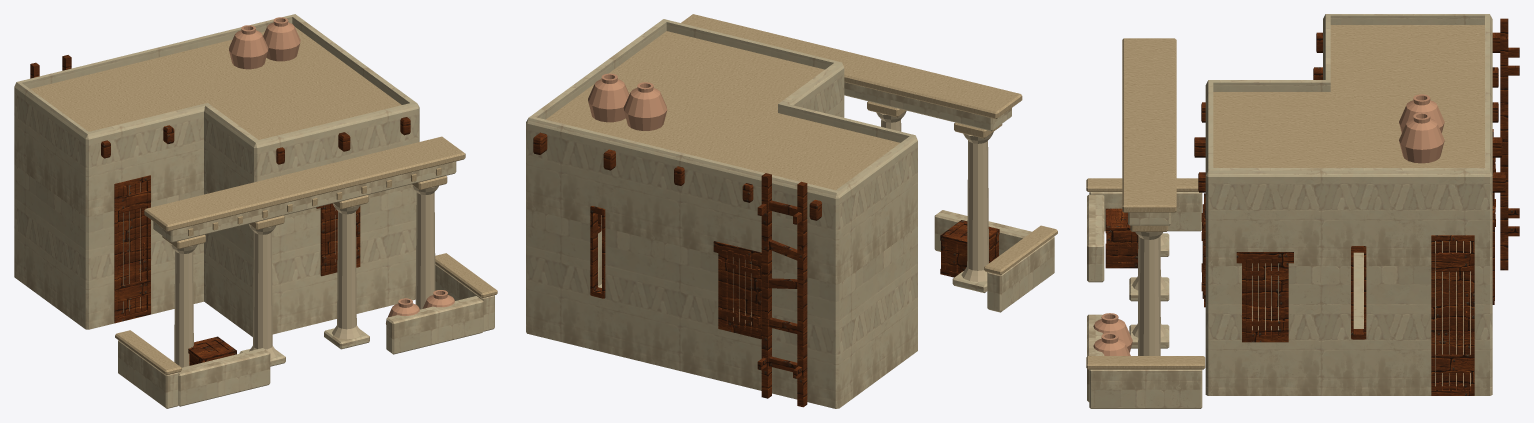
Rendered from house-colonnade.glb.
The picture shows the model from 3 angles, left to right: view 1: azimuth 30°, elevation 25°; view 2: azimuth 150°, elevation 25°; view 3: azimuth 270°, elevation 25°; orthographic projection. The views are drawn at different scales.
Visible parts, largest first — view 1: house-colonnade|3dtextures-dressed-limestone, house-colonnade|3dtextures-limestone-coping, house-colonnade|3dtextures-aged-wood, house-colonnade|fired-clay; view 2: house-colonnade|3dtextures-dressed-limestone, house-colonnade|3dtextures-limestone-coping, house-colonnade|3dtextures-aged-wood, house-colonnade|fired-clay; view 3: house-colonnade|3dtextures-dressed-limestone, house-colonnade|3dtextures-limestone-coping, house-colonnade|3dtextures-aged-wood, house-colonnade|fired-clay.
Part boxes in pixels (box(x1,y1,x2,y2)): house-colonnade|3dtextures-dressed-limestone: box(14, 14, 494, 408); house-colonnade|3dtextures-limestone-coping: box(30, 27, 497, 375); house-colonnade|3dtextures-aged-wood: box(30, 55, 410, 365); house-colonnade|fired-clay: box(229, 17, 454, 324); house-colonnade|3dtextures-dressed-limestone: box(526, 19, 1054, 408); house-colonnade|3dtextures-limestone-coping: box(546, 14, 1057, 275); house-colonnade|3dtextures-aged-wood: box(533, 132, 999, 407); house-colonnade|fired-clay: box(588, 73, 667, 130); house-colonnade|3dtextures-dressed-limestone: box(1087, 14, 1492, 408); house-colonnade|3dtextures-limestone-coping: box(1086, 25, 1484, 369); house-colonnade|3dtextures-aged-wood: box(1105, 18, 1519, 395); house-colonnade|fired-clay: box(1093, 94, 1444, 355).
Bounding box in the file's own units: 6.17 × 3.91 × 6.05.
5 materials, 3 textured.
